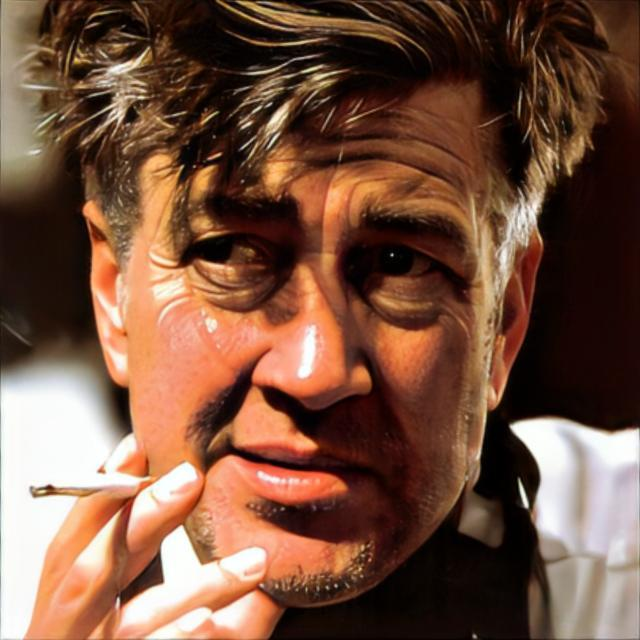sad: (128, 76, 498, 608)
